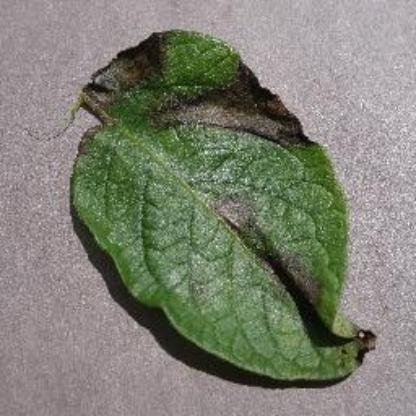Late-Blight: (57, 17, 379, 389)
